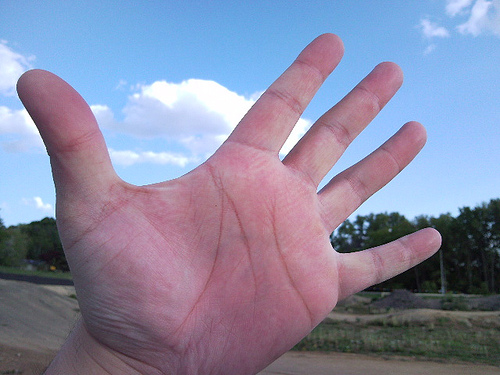palm: (88, 167, 337, 355)
